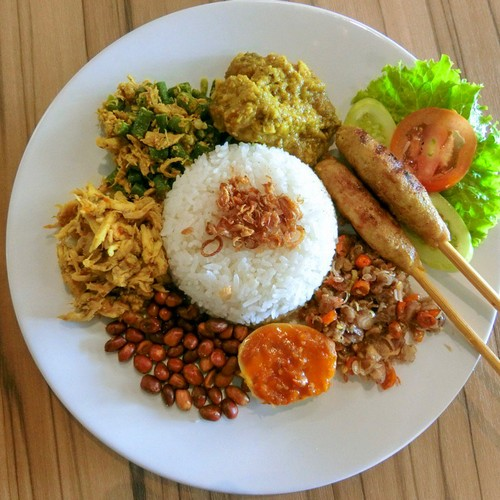nasi campur bali: (80, 81, 391, 408)
